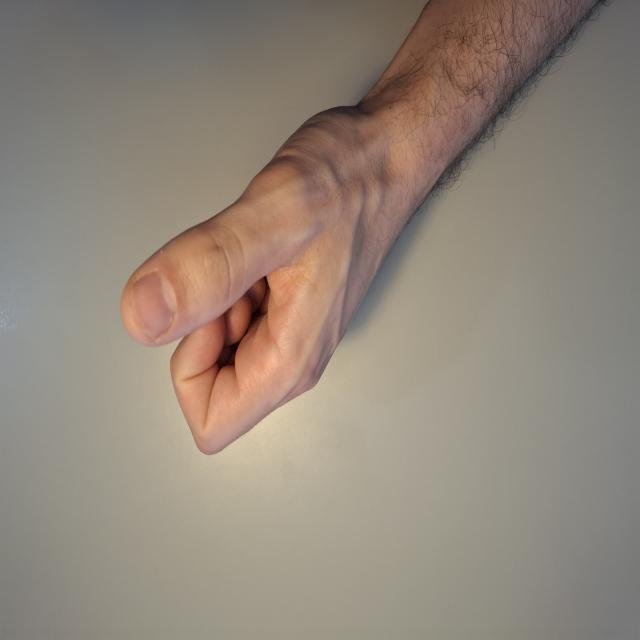glove_off: (119, 90, 428, 459)
